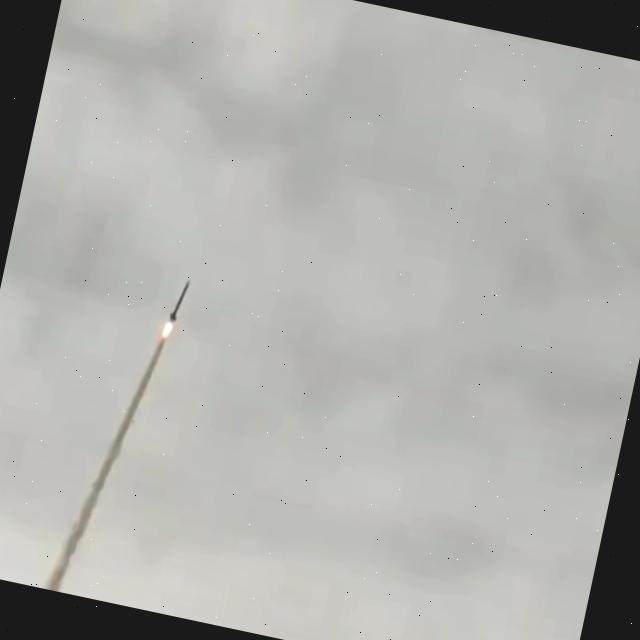smoke_trail_with_rocket: (42, 280, 187, 592)
